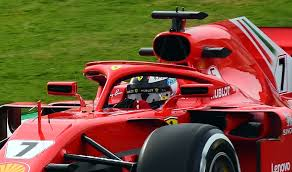FormulaOneCar: (2, 10, 289, 172)
